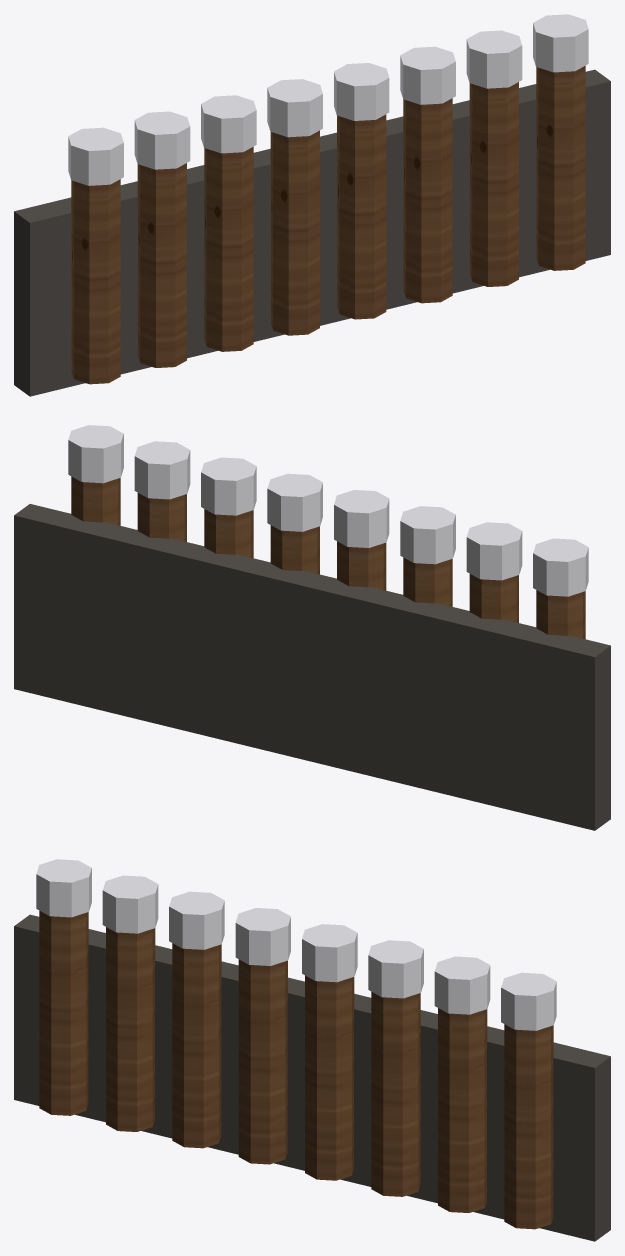
The model's file is gazyr_set.glb.
The picture shows the model from 3 angles, top to bottom: view 1: azimuth 30°, elevation 25°; view 2: azimuth 150°, elevation 25°; view 3: azimuth 330°, elevation 25°; orthographic projection.
Parts seen in each view (by area): view 1: Gazyr_Set; view 2: Gazyr_Set; view 3: Gazyr_Set.
Boxes of the visible parts, bbox=[...] form: Gazyr_Set: bbox=[14, 14, 610, 396]; Gazyr_Set: bbox=[14, 425, 610, 830]; Gazyr_Set: bbox=[14, 859, 610, 1241].
Bounding box in the file's own units: 0.21 × 0.086 × 0.024.
3 materials, 1 textured.
